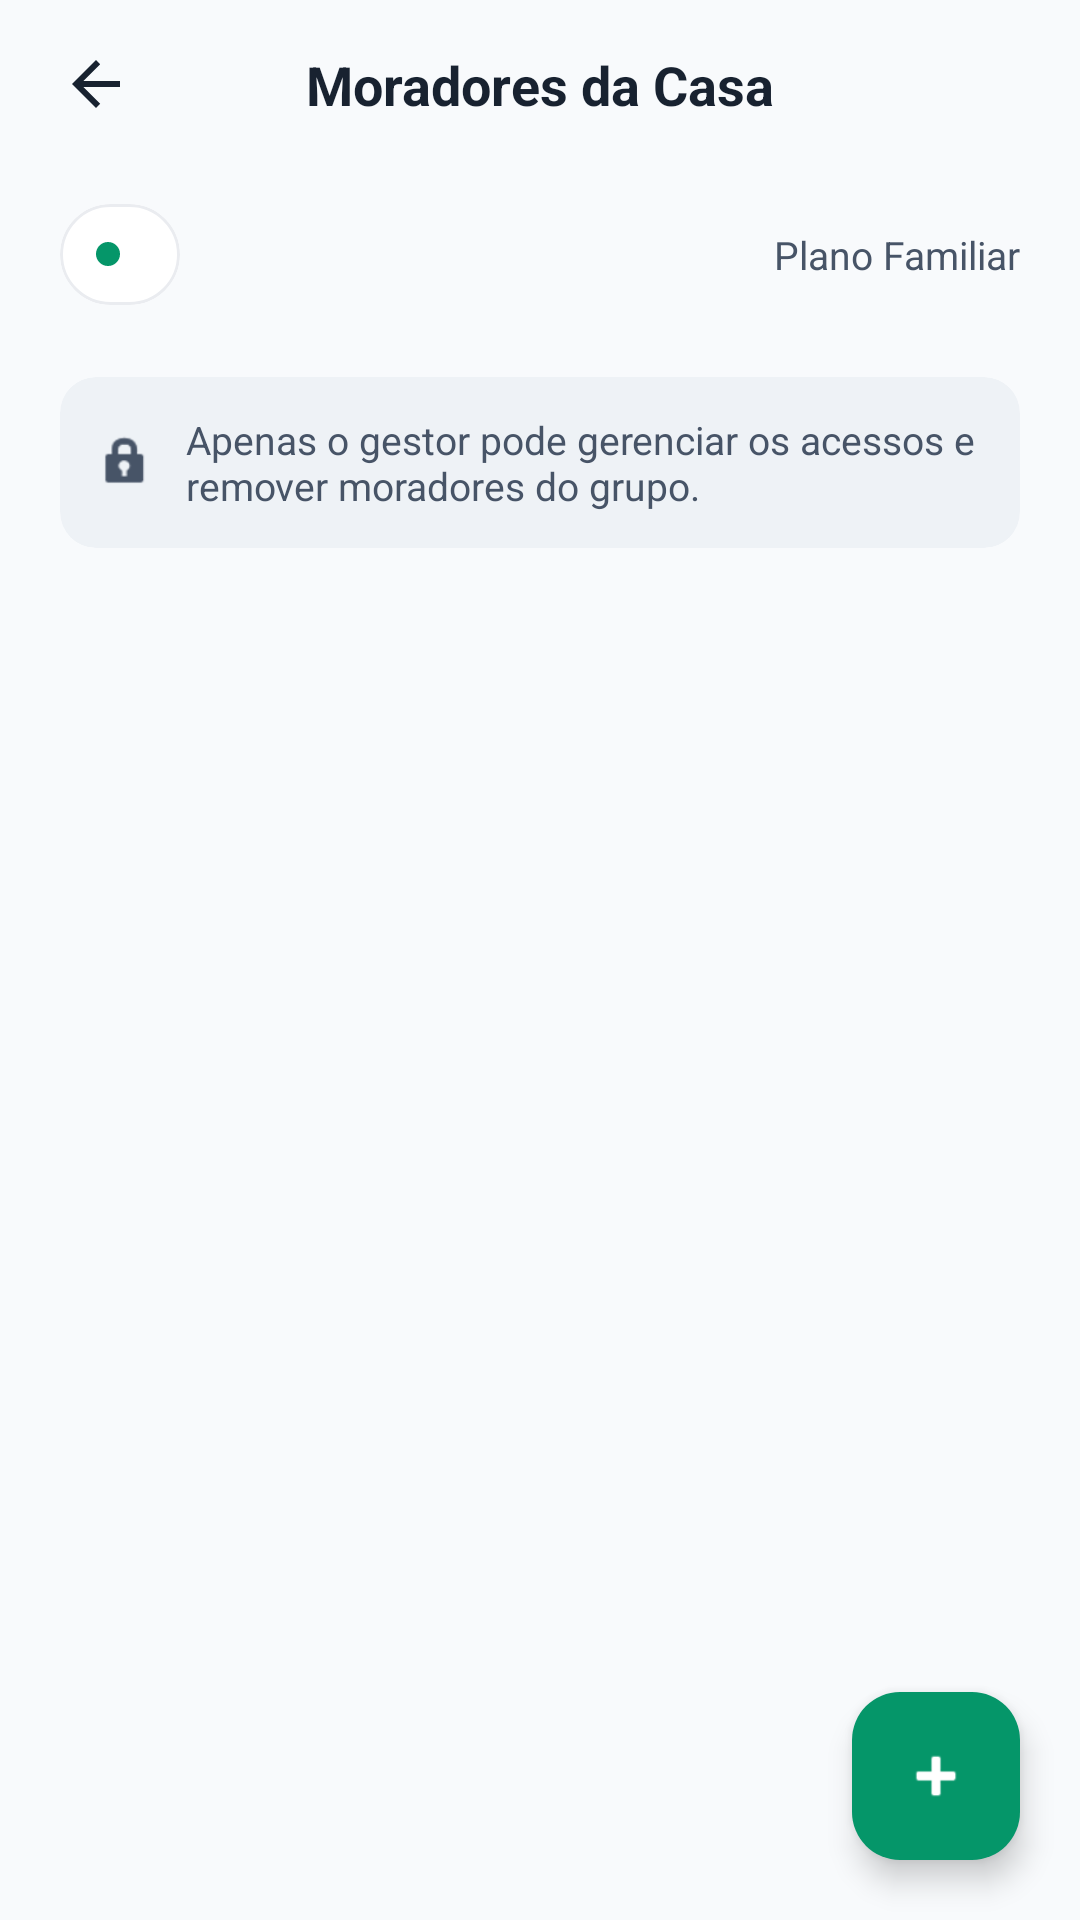

Icon click points for this 1080*1920 phone screenshot, format (x,y):
Adicionar novo morador: (936,1776)
lock idle: (124,460)
Voltar: (96,84)
